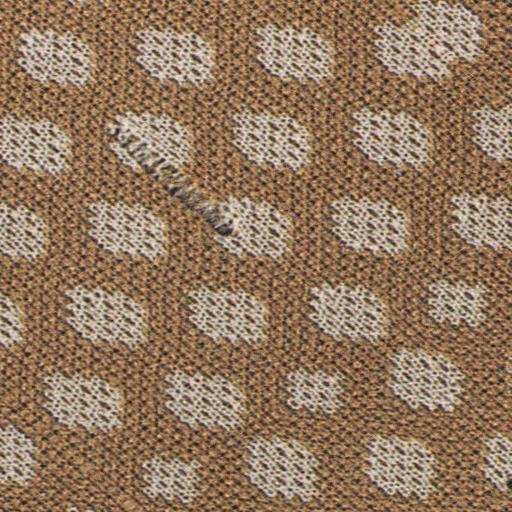slub: (96, 109, 252, 257)
